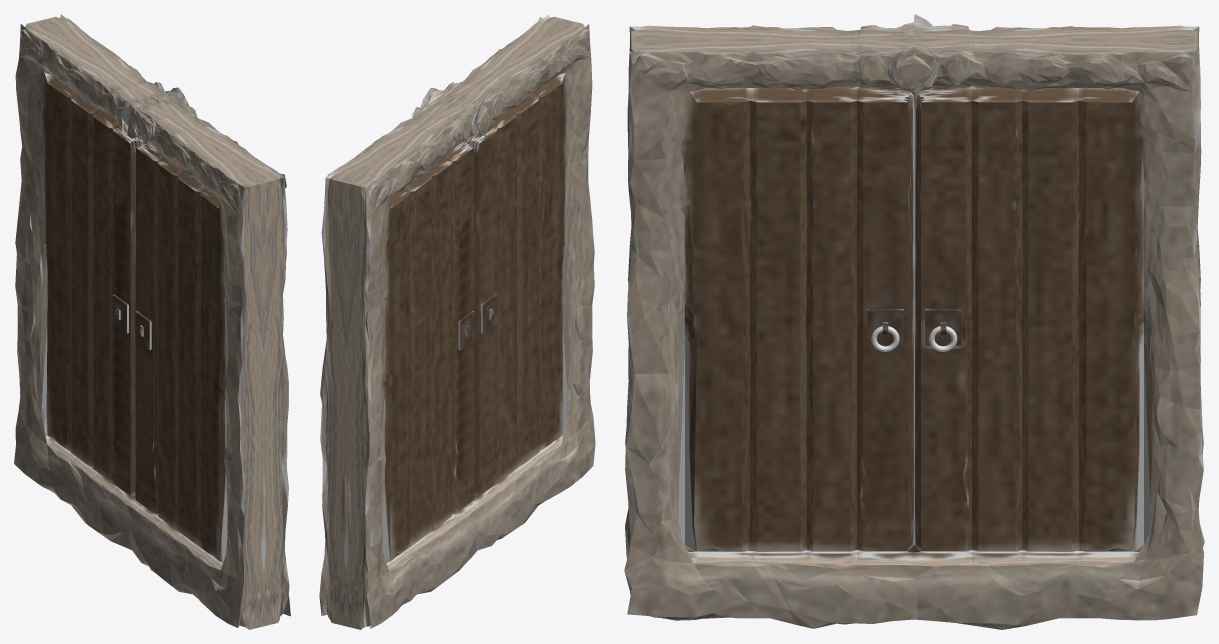
File: EntranceDoor 1.fbx
3 views of the same model, side by side, from view 1: azimuth 30°, elevation 25°; view 2: azimuth 150°, elevation 25°; view 3: azimuth 270°, elevation 25° (orthographic). The views are drawn at different scales.
Visible parts, largest first — view 1: Cube.005; view 2: Cube.005; view 3: Cube.005.
Boxes of the visible parts, x1,y1,x2,y2 form: Cube.005: (14,14,290,629); Cube.005: (319,14,595,629); Cube.005: (624,14,1204,629).
Bounding box in the file's own units: 160 × 1141 × 1025.
Materials: 1 (1 with a texture image).
